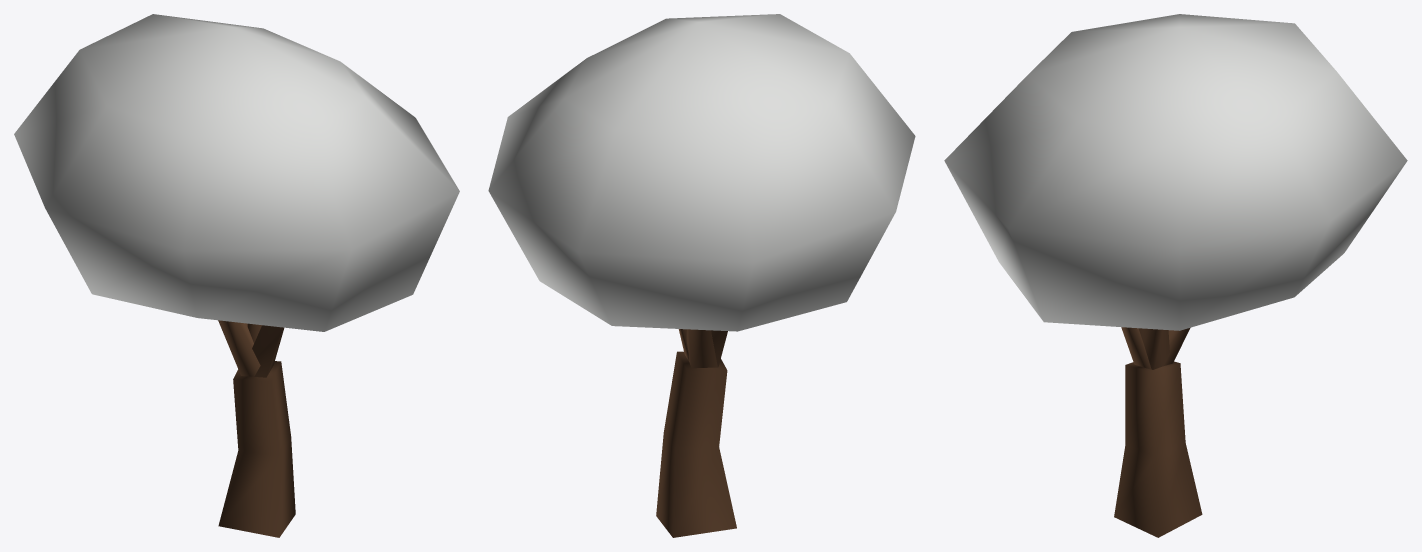
The picture shows the model from 3 angles, left to right: view 1: azimuth 30°, elevation 25°; view 2: azimuth 150°, elevation 25°; view 3: azimuth 270°, elevation 25°; orthographic projection. The views are drawn at different scales.
Parts seen in each view (by area): view 1: crown, trunk; view 2: crown, trunk; view 3: crown, trunk.
Part boxes in pixels (x1,y1,x2,y2): crown: [14, 14, 459, 331]; trunk: [218, 320, 295, 537]; crown: [488, 14, 915, 331]; trunk: [656, 329, 736, 537]; crown: [944, 14, 1407, 330]; trunk: [1114, 327, 1202, 537].
Bounding box in the file's own units: 11.81 × 14.98 × 12.96.
